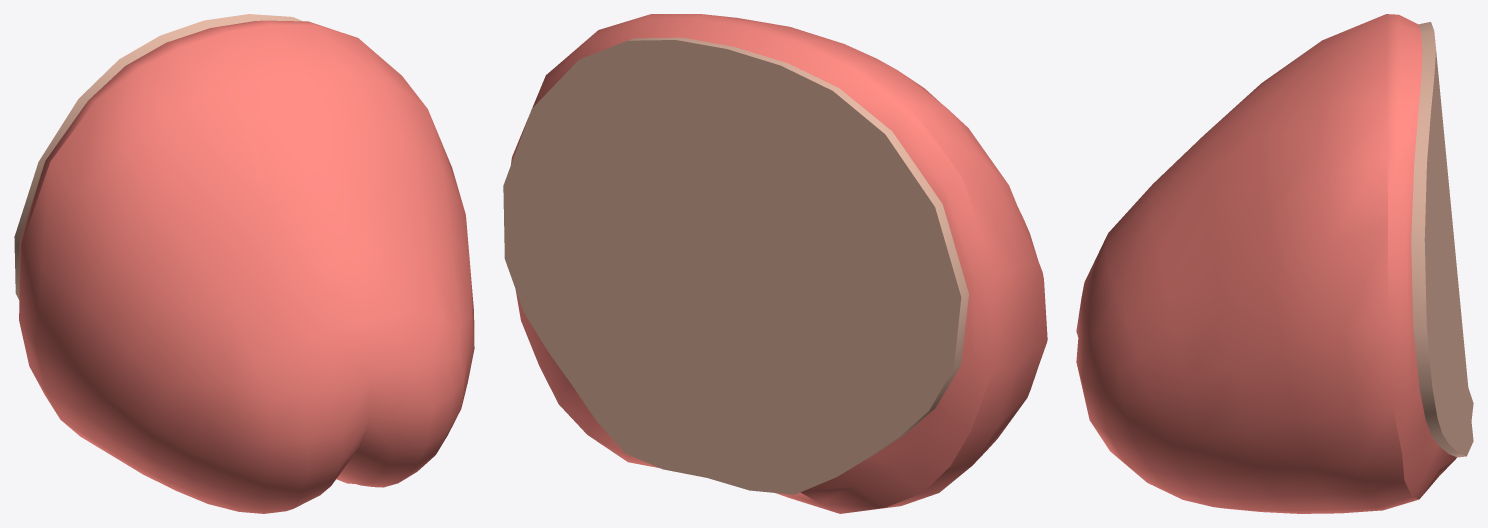
The model's file is TipBroken.fbx.
The picture shows the model from 3 angles, left to right: view 1: azimuth 30°, elevation 25°; view 2: azimuth 150°, elevation 25°; view 3: azimuth 270°, elevation 25°; orthographic projection. The views are drawn at different scales.
Visible parts, largest first — view 1: JustTip; view 2: JustTip; view 3: JustTip.
Part boxes in pixels (left/top/right/bottom): JustTip: left=14, top=14, right=474, bottom=513; JustTip: left=503, top=14, right=1047, bottom=513; JustTip: left=1076, top=14, right=1473, bottom=513.
Size of the model in its own units: 5.25 by 4.89 by 4.12.
